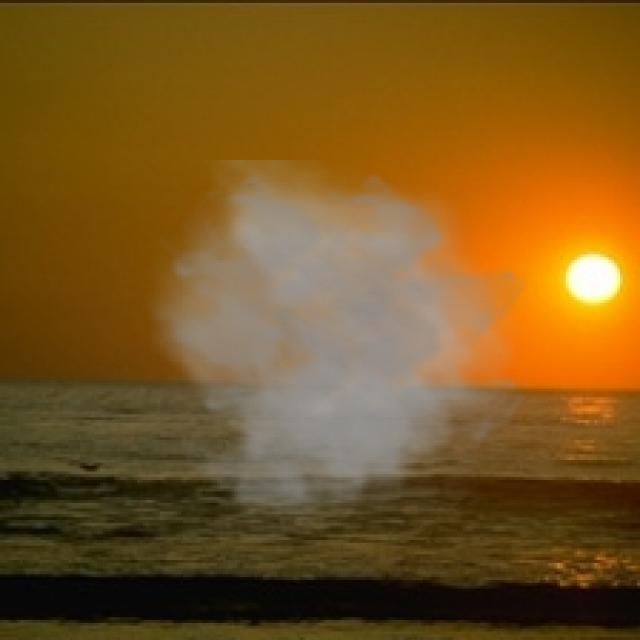smoke: (140, 160, 531, 546)
